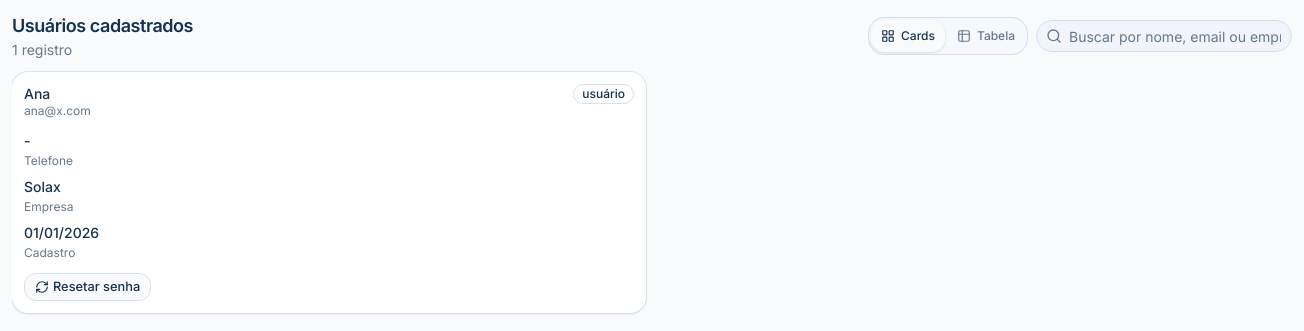
Test: UsersPanel › switches between the card and responsive table views
The width and height of the screenshot is (1304, 331).
What coordinates should you click on to do the following:
click the button with aria-label "Exibir usuários em tabela"
I would click on:
 (986, 36)
Its box is [947,20,1025,52].
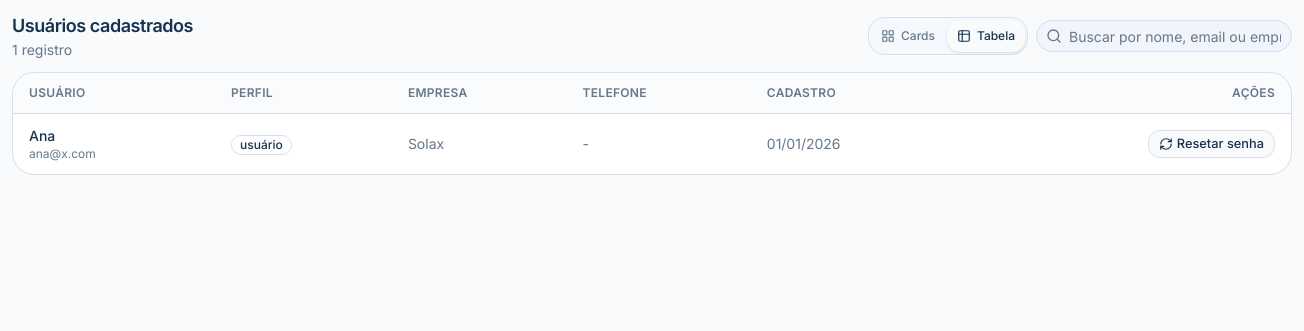
Expected: the column heading "Empresa" is shown, [396,73,571,114]
Expected: the table named "Usuários cadastrados em tabela" is shown, [13,73,1291,174]
What coordinates should you click on to do the following:
click the button with aria-label "Exibir usuários em cards"
I would click on:
 (908, 36)
Its box is [871,20,945,52].
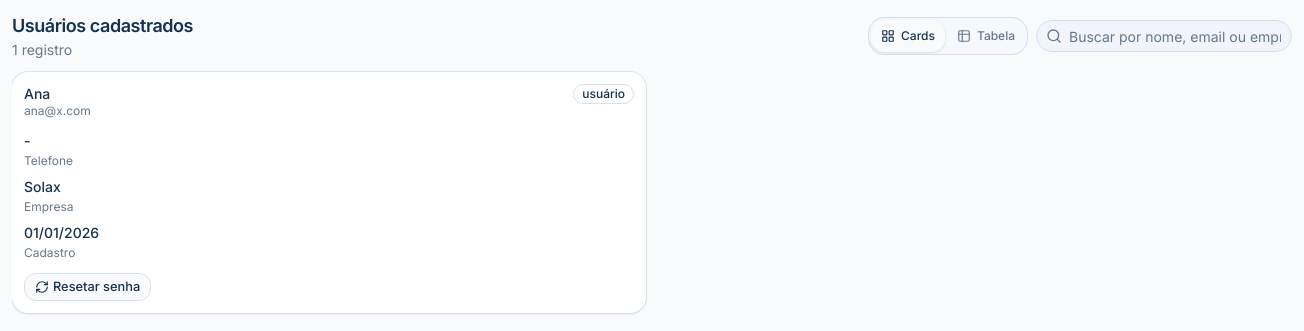
Expected: the table is gone
